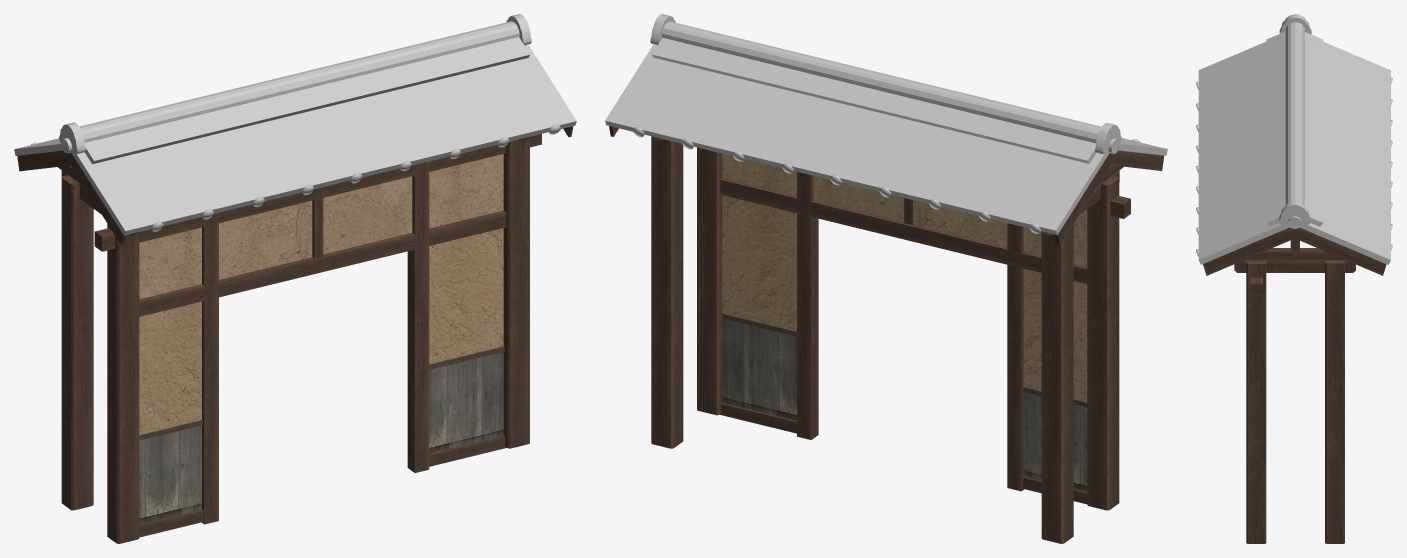
File: jov_entrancegate02.fbx
The picture shows the model from 3 angles, left to right: view 1: azimuth 30°, elevation 25°; view 2: azimuth 150°, elevation 25°; view 3: azimuth 270°, elevation 25°; orthographic projection. The views are drawn at different scales.
Visible parts, largest first — view 1: jov_entrancegate02; view 2: jov_entrancegate02; view 3: jov_entrancegate02.
Part boxes in pixels (left/top/right/bottom): jov_entrancegate02: left=14, top=14, right=576, bottom=543; jov_entrancegate02: left=605, top=14, right=1167, bottom=543; jov_entrancegate02: left=1196, top=14, right=1392, bottom=543.
Size of the model in its own units: 510 by 431 by 219.
